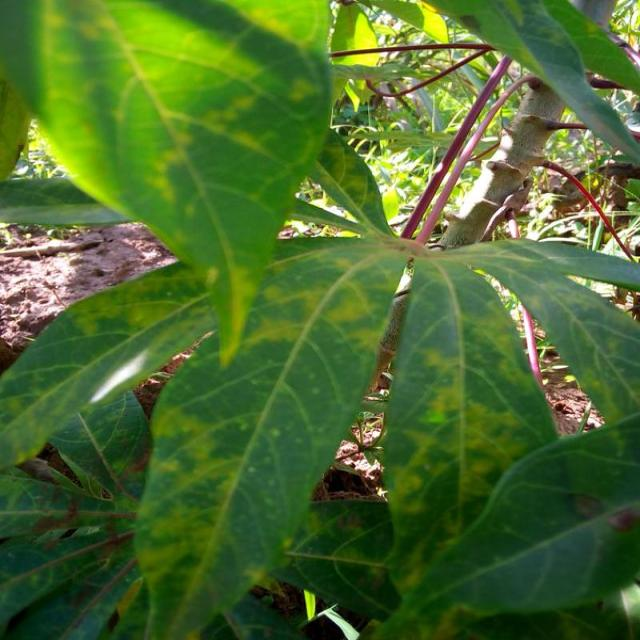cassava leaf: (2, 1, 640, 637), (2, 0, 336, 365), (134, 234, 410, 636), (380, 256, 562, 603)
